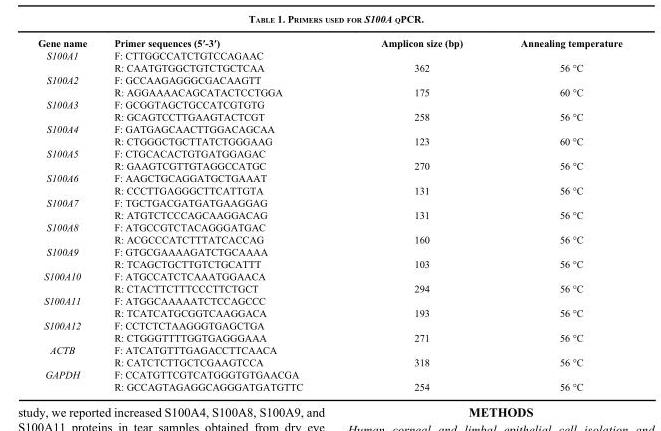table: (37, 36, 621, 391)
table column: (99, 36, 341, 391), (341, 36, 491, 391), (491, 36, 621, 391), (37, 36, 99, 391)
table column header: (37, 36, 621, 48)
table row: (37, 48, 621, 61), (37, 97, 621, 110), (37, 146, 621, 159), (37, 183, 621, 196), (37, 232, 621, 245), (37, 281, 621, 294), (37, 318, 621, 331), (37, 367, 621, 380), (37, 36, 621, 48), (37, 61, 621, 73), (37, 73, 621, 85), (37, 85, 621, 97), (37, 110, 621, 122), (37, 122, 621, 134), (37, 134, 621, 146), (37, 159, 621, 171), (37, 171, 621, 183), (37, 196, 621, 208), (37, 208, 621, 220), (37, 220, 621, 232), (37, 245, 621, 257), (37, 257, 621, 269), (37, 269, 621, 281), (37, 294, 621, 306), (37, 306, 621, 318), (37, 331, 621, 343), (37, 343, 621, 355), (37, 355, 621, 367), (37, 380, 621, 391)
table spanning cell: (37, 48, 99, 73), (37, 97, 99, 122), (37, 146, 99, 171), (37, 171, 99, 196), (37, 220, 99, 245), (37, 269, 99, 294), (37, 318, 99, 343), (37, 73, 99, 97), (37, 122, 99, 146), (37, 196, 99, 220), (37, 245, 99, 269), (37, 294, 99, 318), (37, 343, 99, 367), (37, 367, 99, 391)
